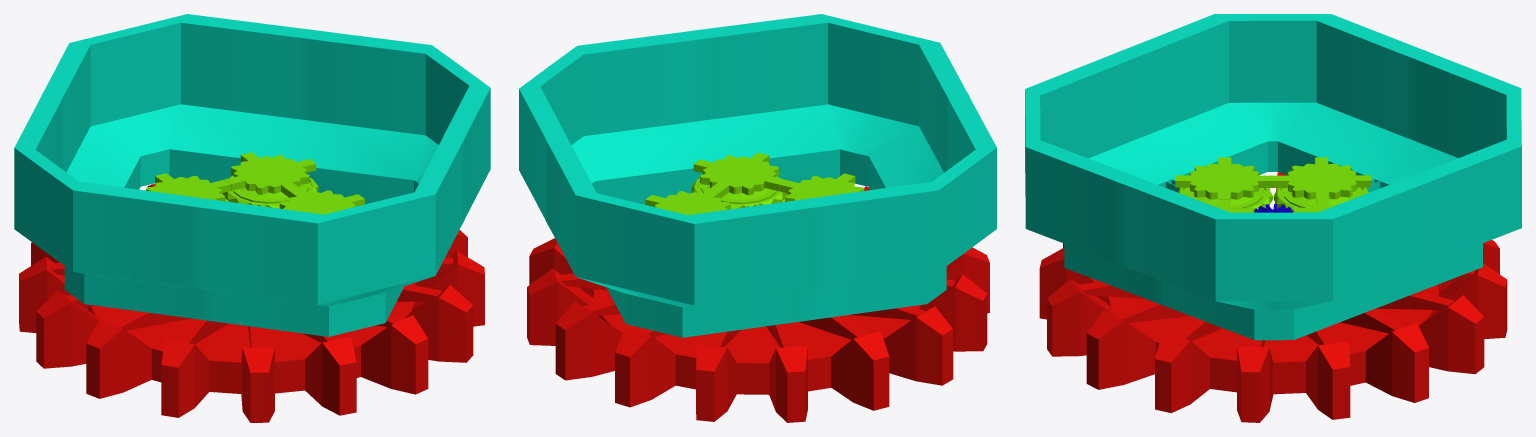
Rendered from SalaBoss.fbx.
3 renders of one model, left to right at view 1: azimuth 30°, elevation 25°; view 2: azimuth 150°, elevation 25°; view 3: azimuth 270°, elevation 25°, orthographic.
Visible parts, largest first — view 1: E_Boss_Wall, E_Die, E_Boss_Cuchilla, E_Trans_04, E_Trans_03, E_Trans_02, E_Boss_04; view 2: E_Boss_Wall, E_Die, E_Boss_Cuchilla, E_Trans_03, E_Trans_04, E_Trans_01, E_Boss_03; view 3: E_Boss_Wall, E_Die, E_Boss_Cuchilla, E_Trans_01, E_Trans_02, E_Boss_02, E_Boss_01.
Boxes of the visible parts, x1,y1,x2,y2 form: E_Boss_Wall: (14, 14, 490, 336); E_Die: (19, 183, 484, 422); E_Boss_Cuchilla: (51, 257, 453, 347); E_Trans_04: (225, 152, 316, 197); E_Trans_03: (279, 188, 364, 214); E_Trans_02: (146, 173, 230, 201); E_Boss_04: (222, 175, 318, 208); E_Boss_Wall: (519, 14, 996, 337); E_Die: (527, 186, 989, 422); E_Boss_Cuchilla: (558, 273, 955, 347); E_Trans_03: (693, 152, 784, 197); E_Trans_04: (645, 188, 730, 215); E_Trans_01: (779, 173, 864, 201); E_Boss_03: (691, 176, 787, 209); E_Boss_Wall: (1025, 14, 1521, 340); E_Die: (1039, 172, 1507, 422); E_Boss_Cuchilla: (1078, 270, 1474, 347); E_Trans_01: (1175, 157, 1273, 200); E_Trans_02: (1273, 157, 1371, 203); E_Boss_02: (1273, 187, 1368, 210); E_Boss_01: (1178, 187, 1272, 209).
Size of the model in its own units: 35083 by 16548 by 35858.
